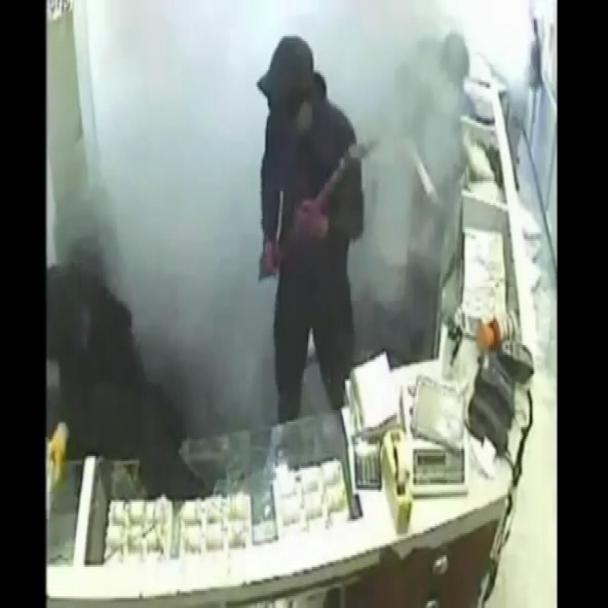smoke: (51, 0, 489, 485)
